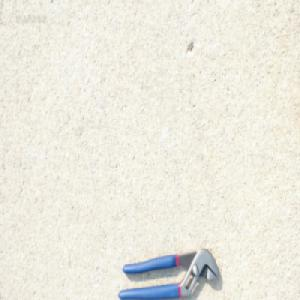Pliers: (119, 247, 219, 294)
